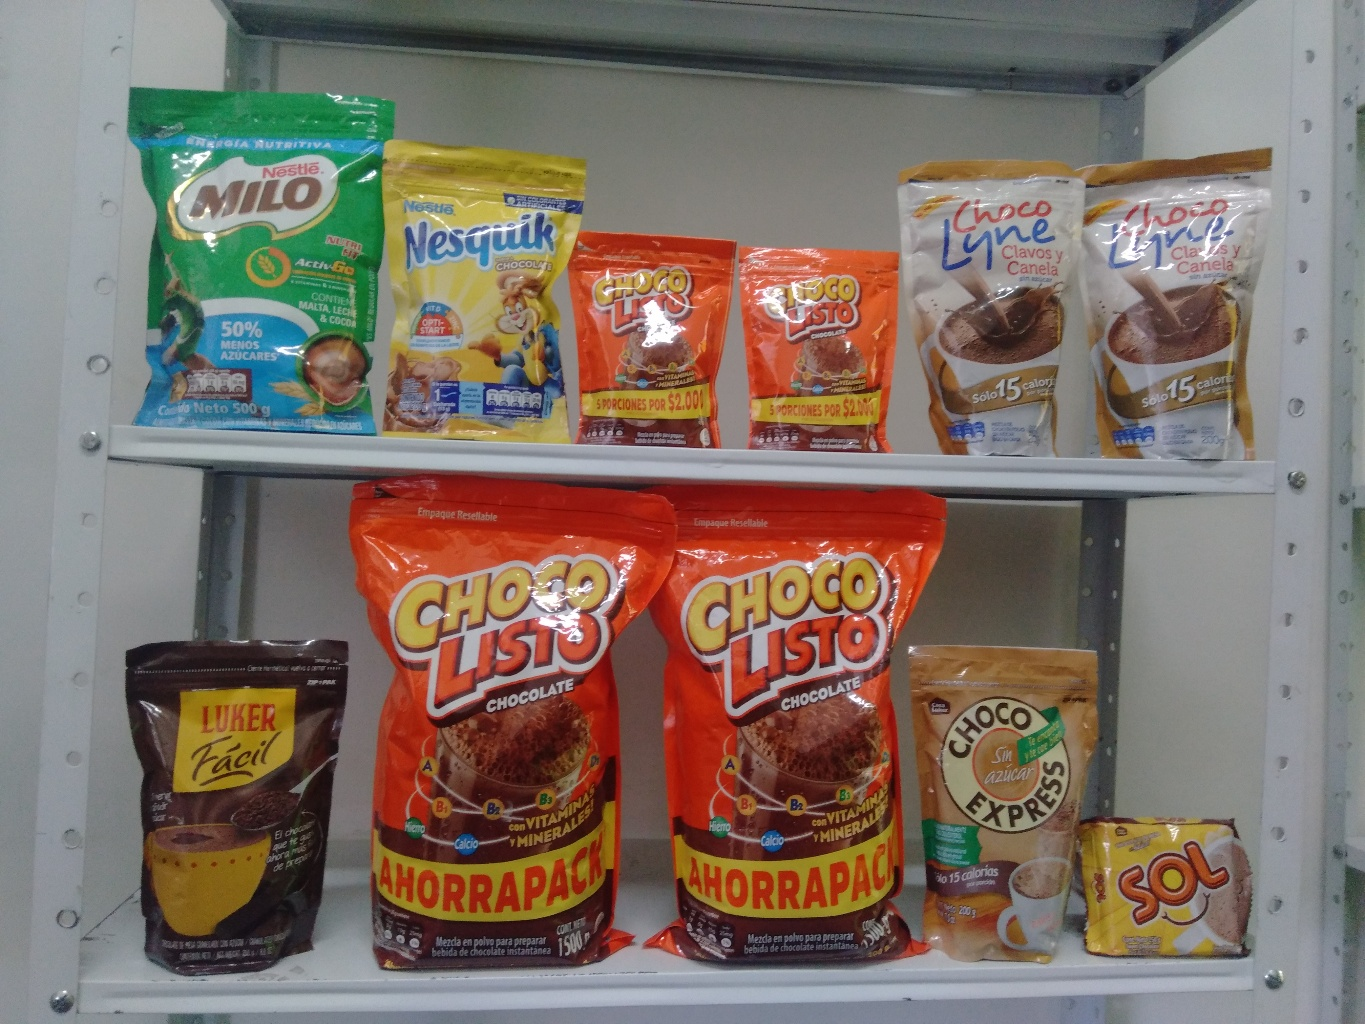COL0170103DYP1,500: (355, 470, 680, 975)
COL0170205DYP50000: (122, 87, 399, 419)
COL0170303DYP20000: (383, 139, 598, 452)
